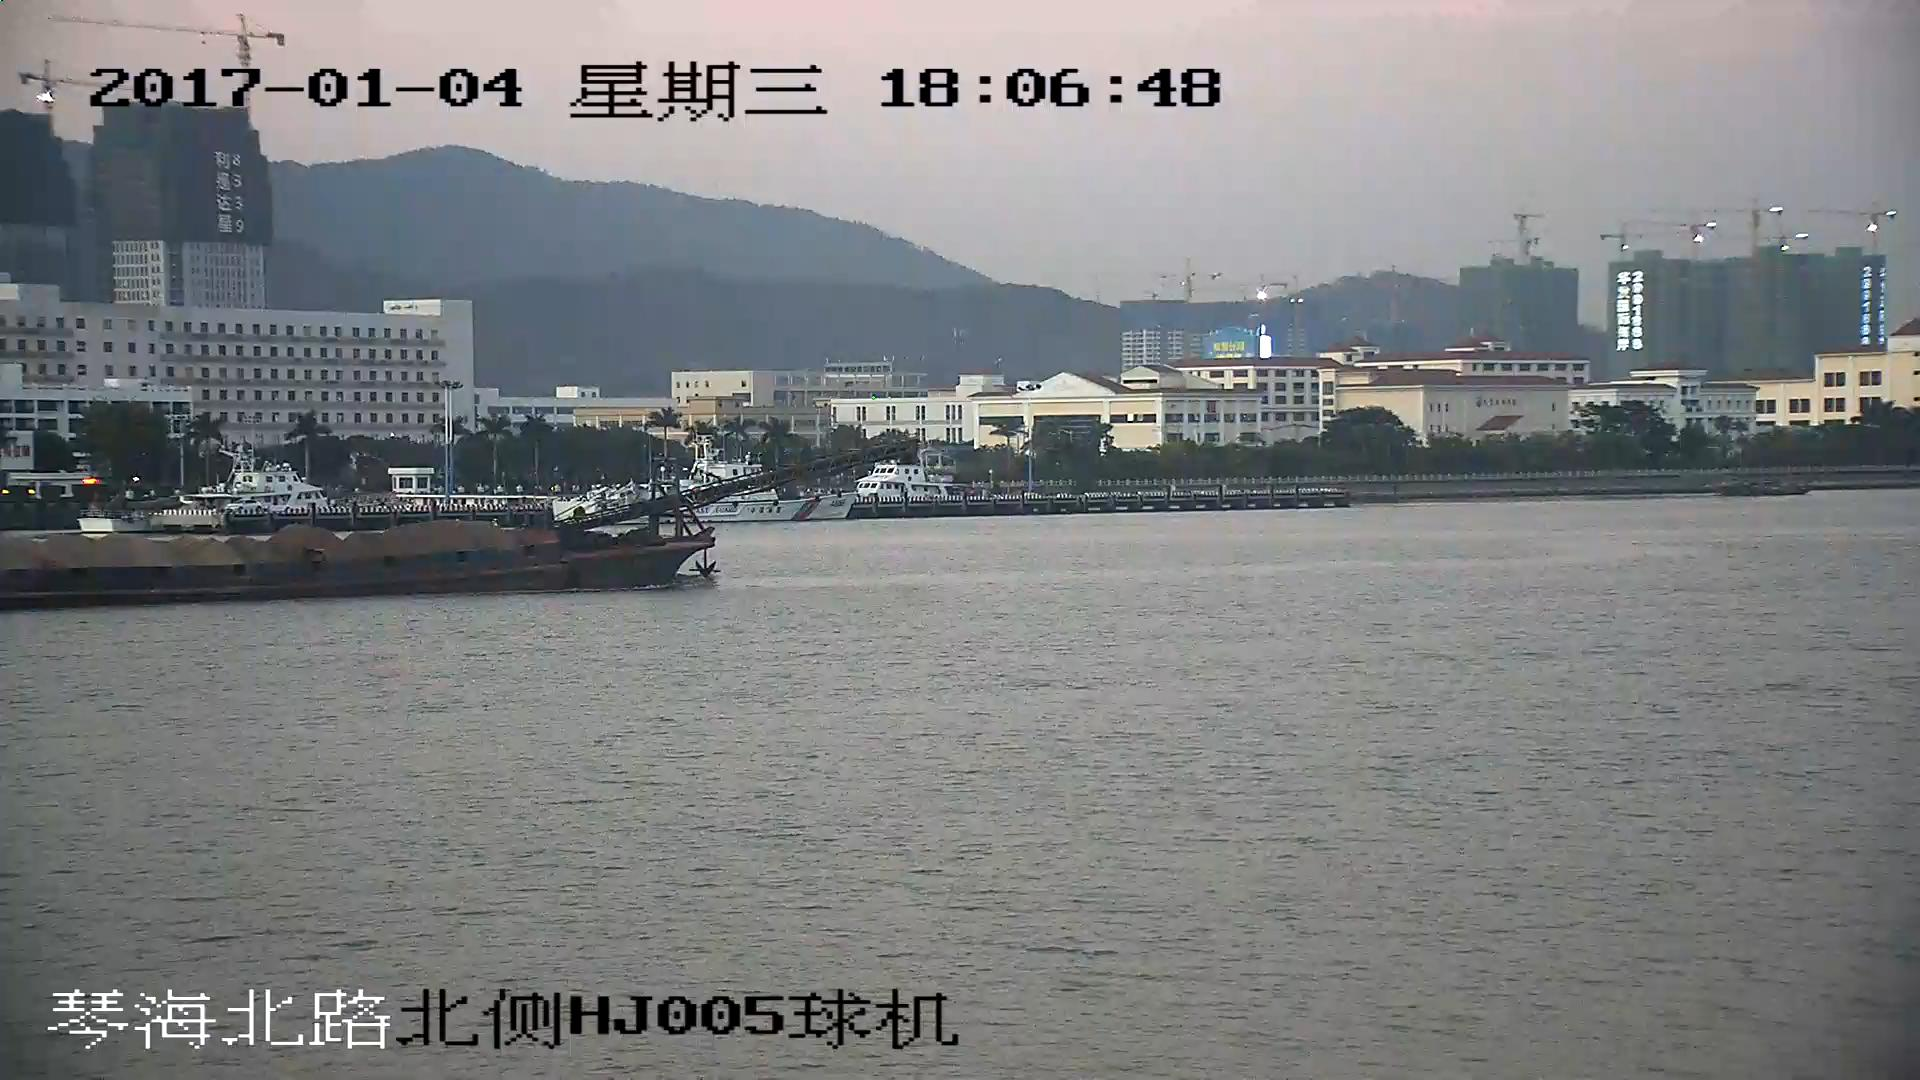ore carrier: (1, 437, 895, 615)
